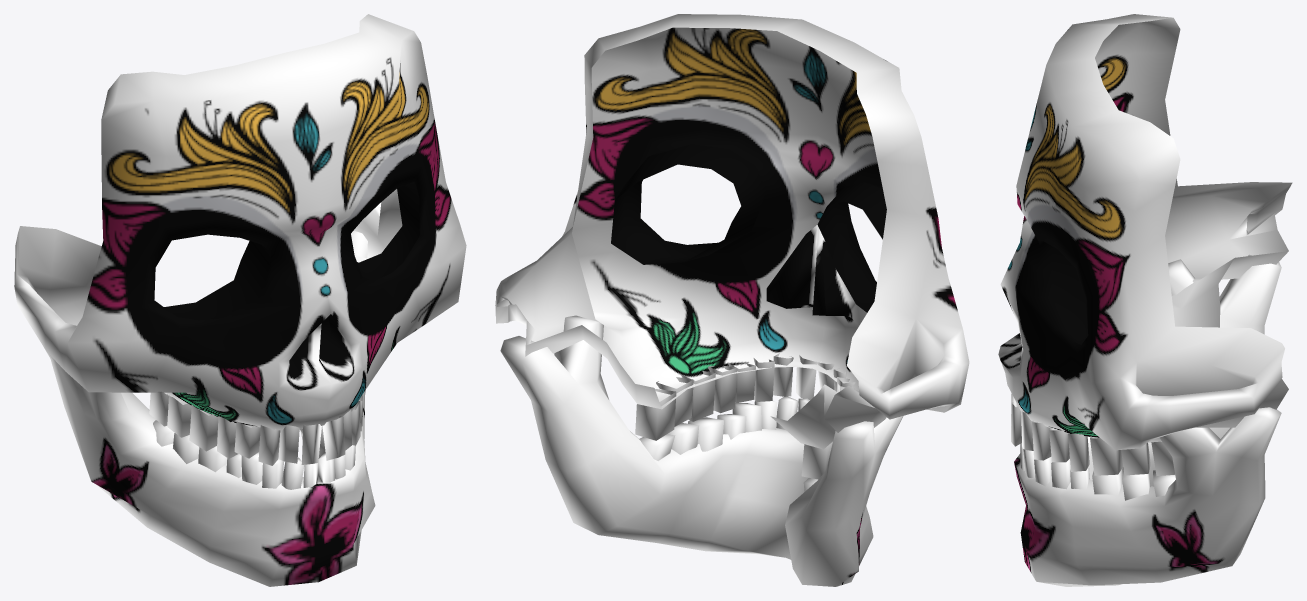
The model's file is M_Mask_Skull.glb.
3 renders of one model, left to right at view 1: azimuth 30°, elevation 25°; view 2: azimuth 150°, elevation 25°; view 3: azimuth 270°, elevation 25°, orthographic. The views are drawn at different scales.
Parts seen in each view (by area): view 1: M_Mask_Skull; view 2: M_Mask_Skull; view 3: M_Mask_Skull.
Part boxes in pixels (box(x1,y1,x2,y2)): M_Mask_Skull: box(14, 14, 466, 586); M_Mask_Skull: box(495, 14, 969, 586); M_Mask_Skull: box(998, 14, 1292, 586).
Size of what is drawn, in the model's own units: 0.7988 by 0.9703 by 0.5028.
1 material, 1 textured.
